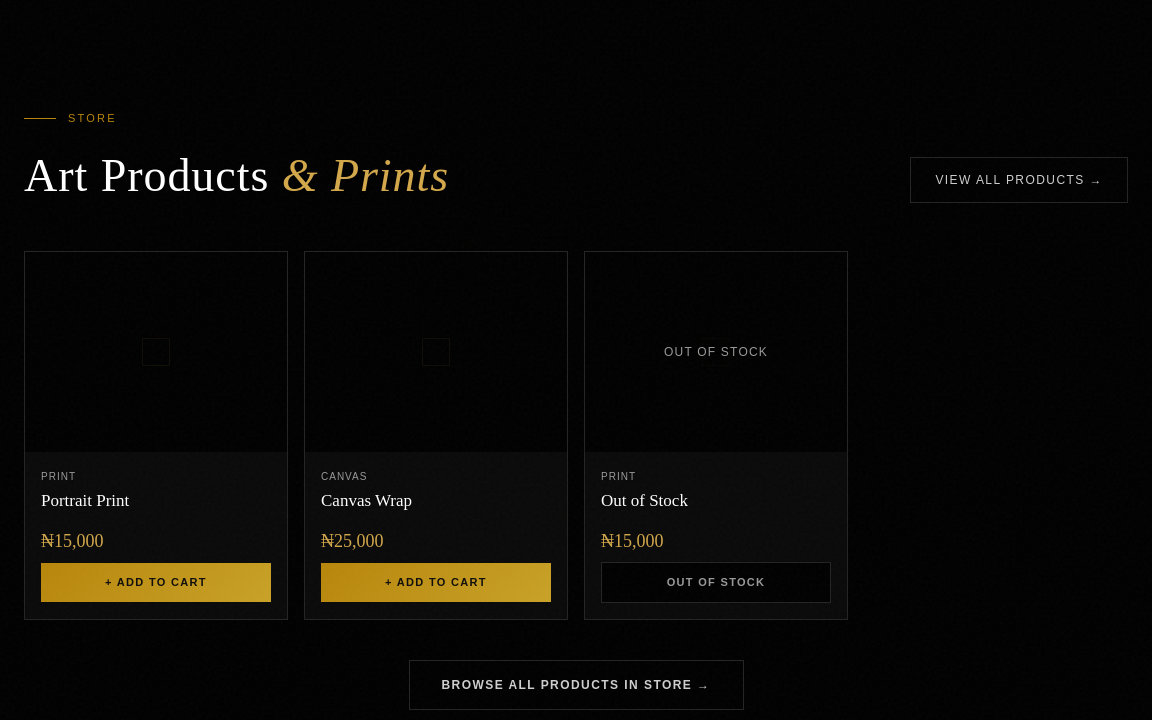
Test: HomeProductSection › opens modal when a product card is clicked
Click the element with test id "product-card-1".
click(156, 435)  # box [24,251,288,620]
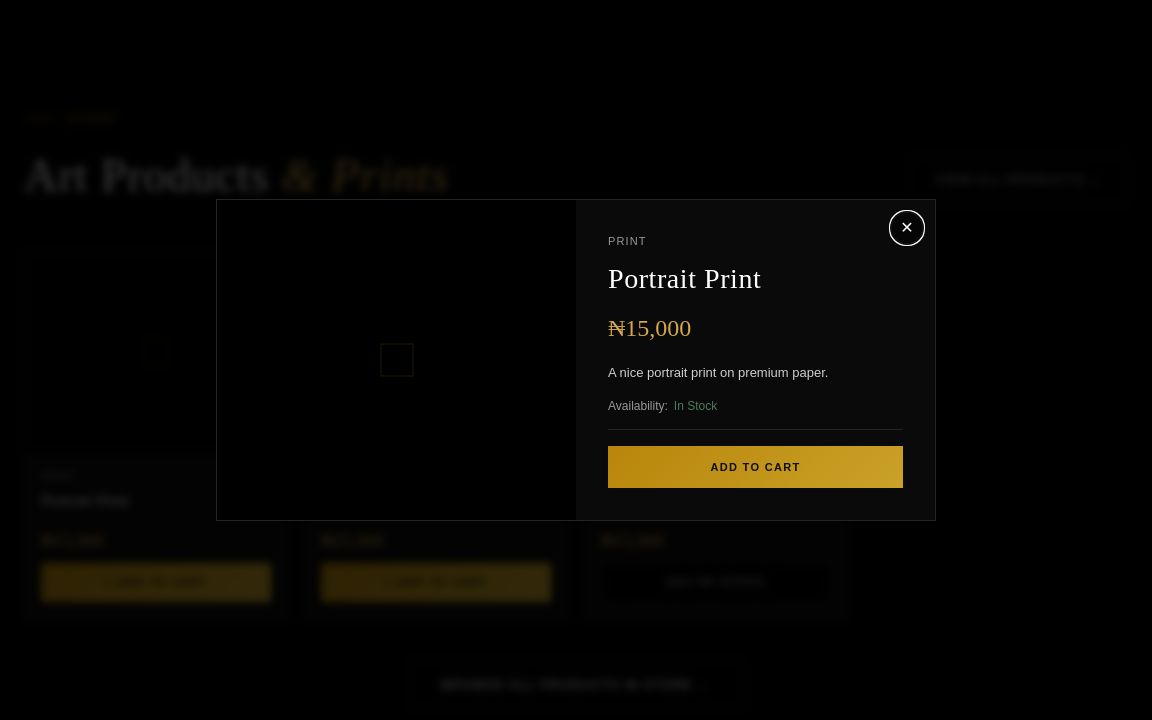
expect the dialog with test id "product-quick-view-modal" is shown: met
